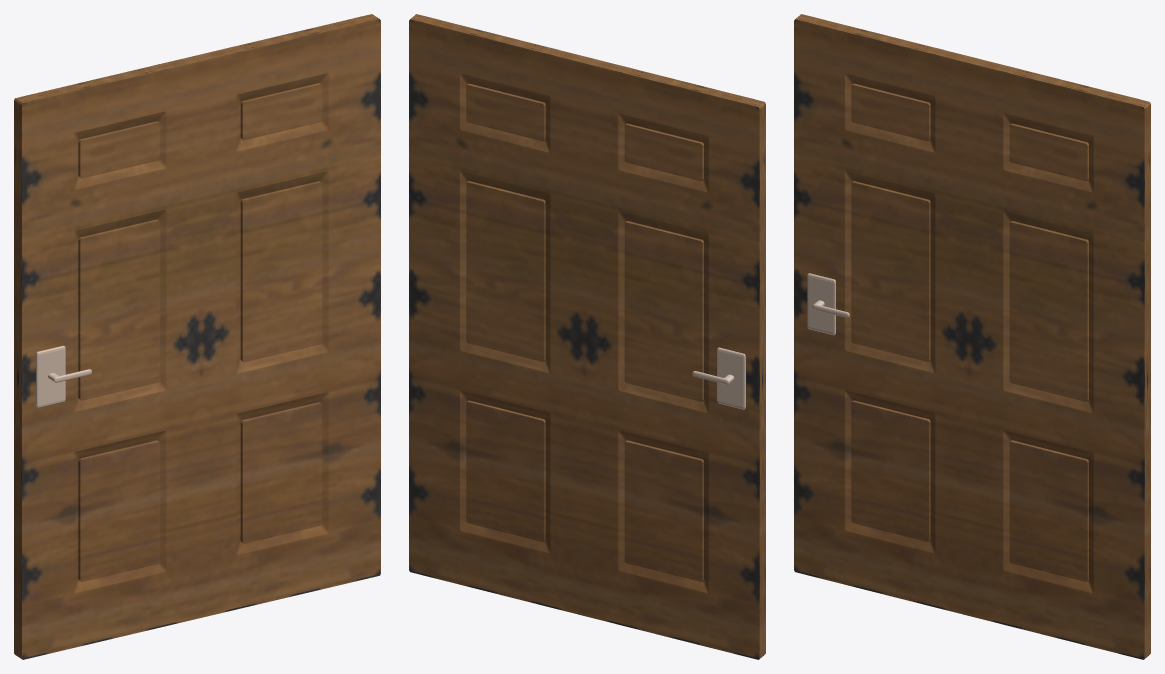
Rendered from Puerta.fbx.
3 renders of one model, left to right at view 1: azimuth 30°, elevation 25°; view 2: azimuth 150°, elevation 25°; view 3: azimuth 330°, elevation 25°, orthographic.
Visible parts, largest first — view 1: Manija; view 2: Manija; view 3: Manija.
Boxes of the visible parts, x1=… form: Manija: x1=14, y1=14, x2=380, y2=659; Manija: x1=409, y1=14, x2=765, y2=659; Manija: x1=794, y1=14, x2=1150, y2=659.
Bounding box in the file's own units: 478 × 712 × 50.
Materials: 2 (1 with a texture image).
